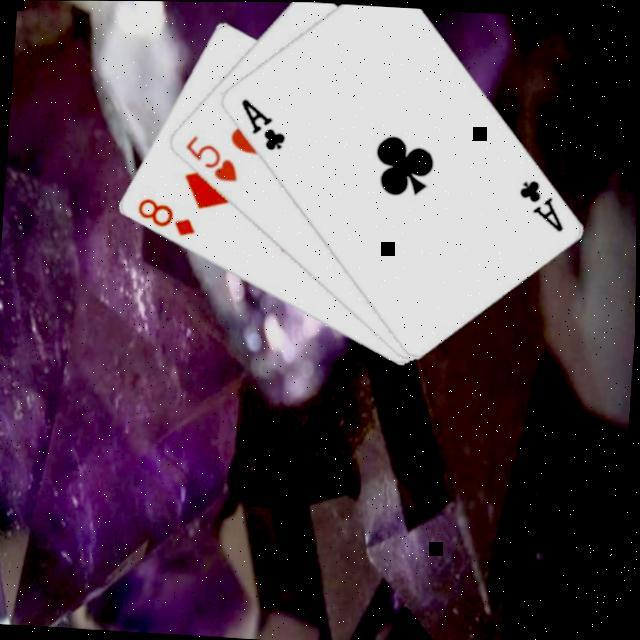5H: (180, 131, 244, 186)
8D: (133, 195, 202, 241)
AC: (235, 94, 292, 156), (514, 175, 570, 236)
